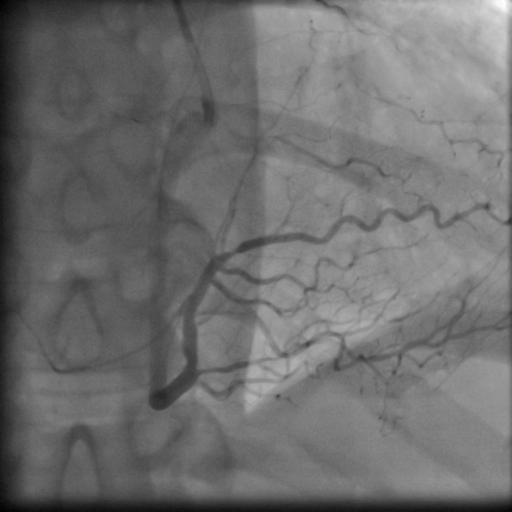Stenosis: (218, 243, 243, 259)
